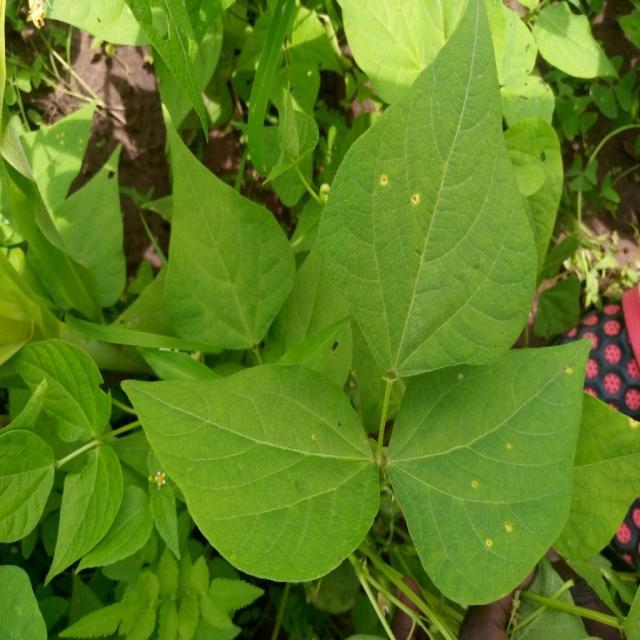sehat: (385, 98, 501, 408), (167, 389, 345, 561), (155, 198, 259, 341)
